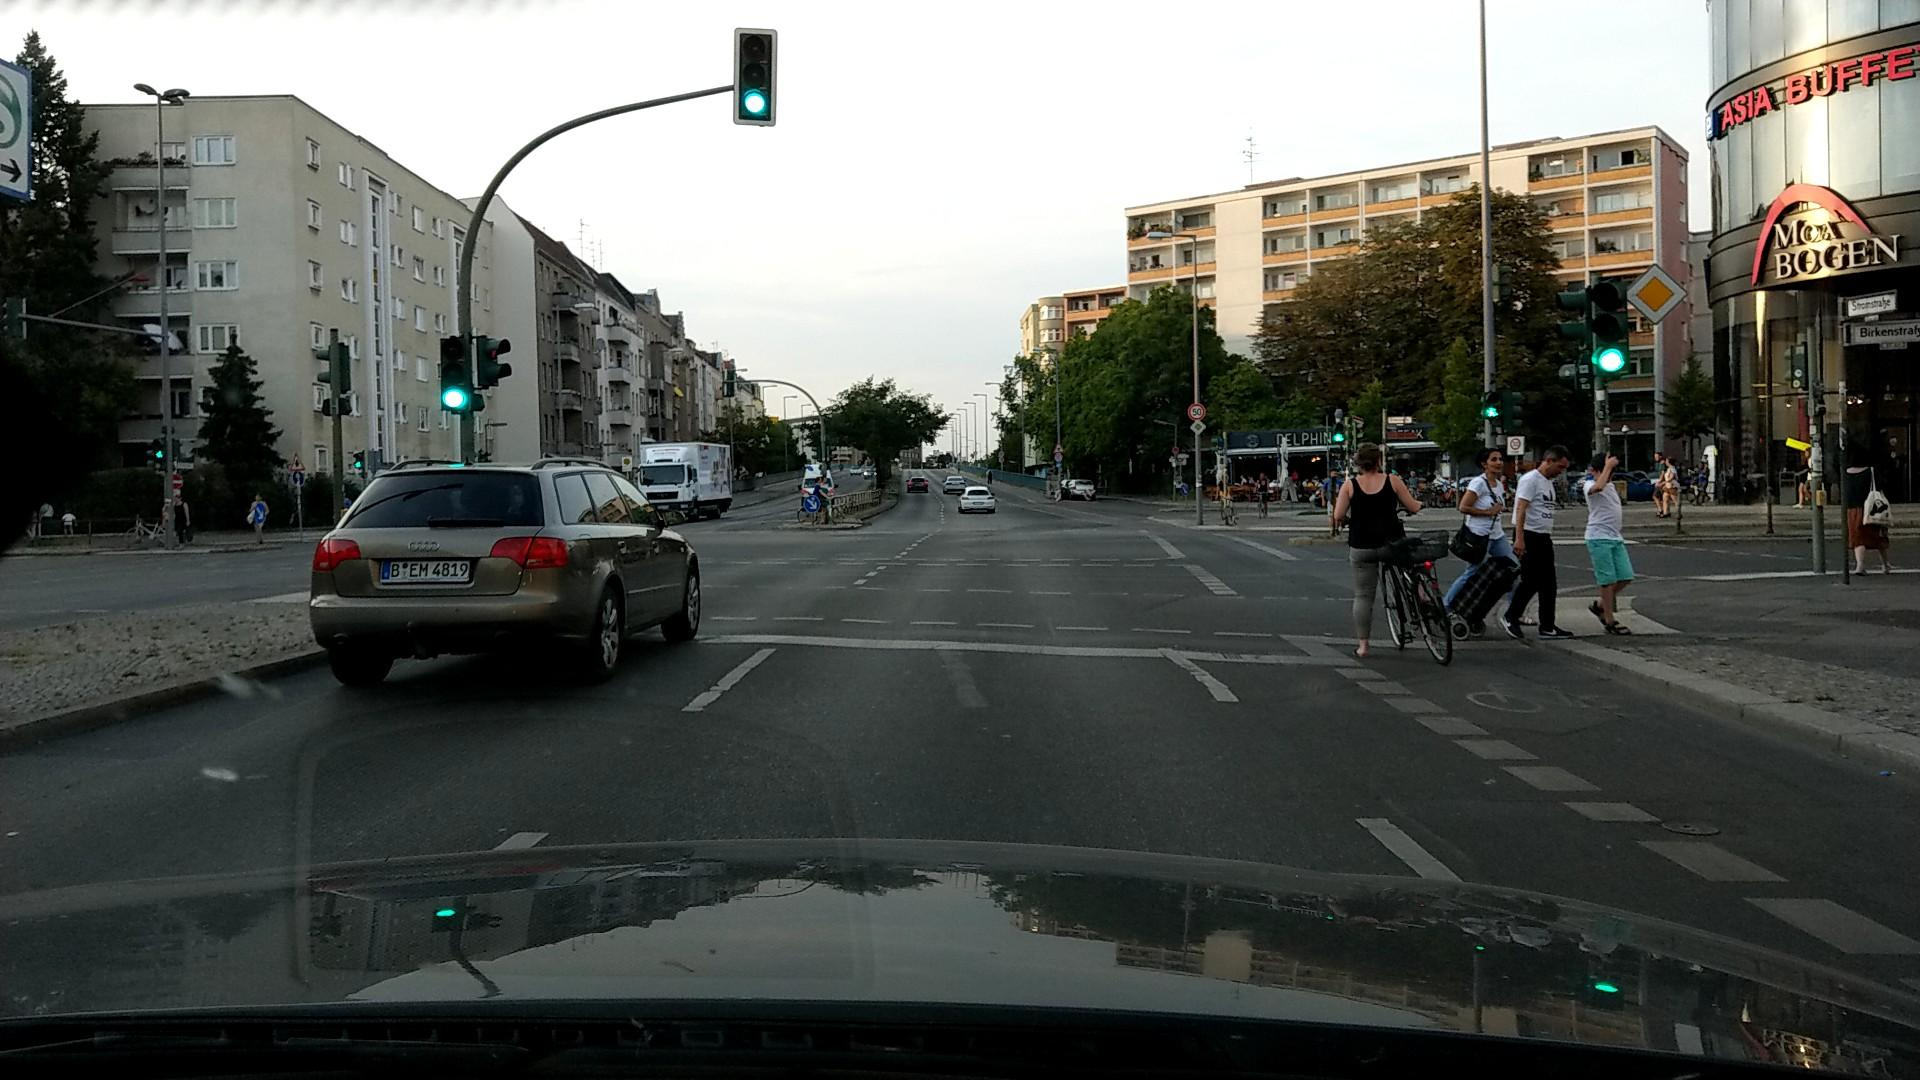Human face: (1543, 446, 1571, 479), (1479, 450, 1505, 476), (255, 491, 263, 502), (1664, 457, 1673, 467), (1654, 453, 1662, 462), (174, 495, 181, 503), (815, 477, 821, 484), (821, 476, 827, 484)
Vehicle registration plate: (381, 558, 470, 585)
